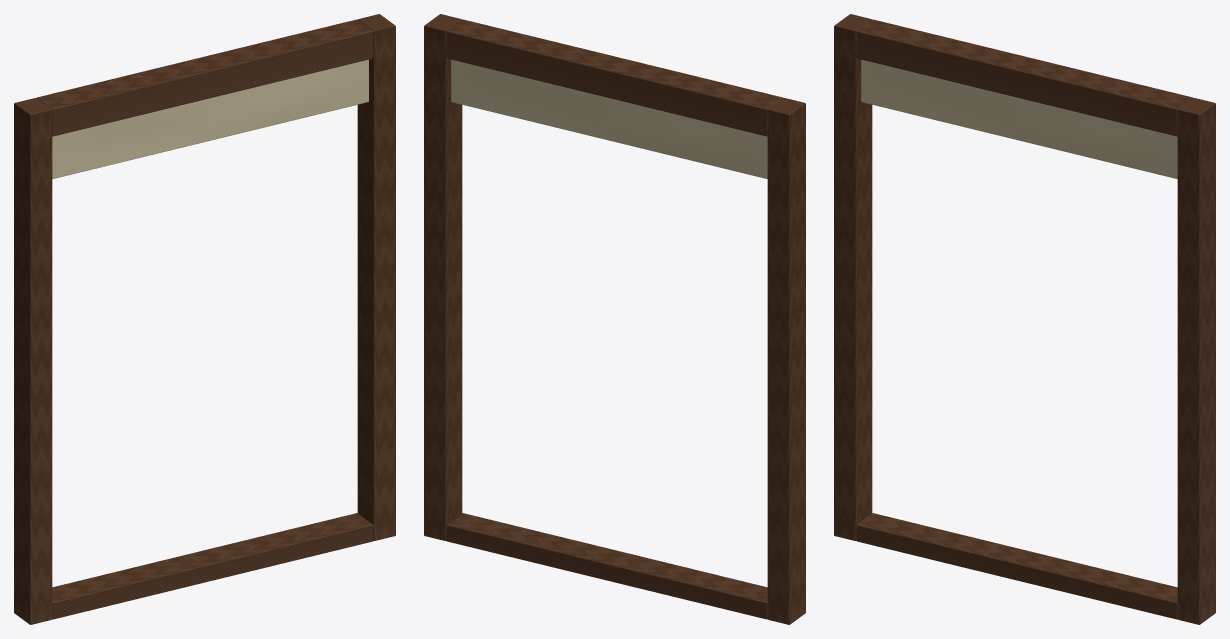
Rendered from doorway.glb.
3 renders of one model, left to right at view 1: azimuth 30°, elevation 25°; view 2: azimuth 150°, elevation 25°; view 3: azimuth 330°, elevation 25°, orthographic.
Parts seen in each view (by area): view 1: doorway; view 2: doorway; view 3: doorway.
Boxes of the visible parts, x1,y1,x2,y2 form: doorway: (14, 14, 395, 624); doorway: (424, 14, 805, 624); doorway: (834, 14, 1215, 624).
Size of the model in its own units: 1.8 by 2.4 by 0.14.
Materials: 2 (2 with a texture image).
